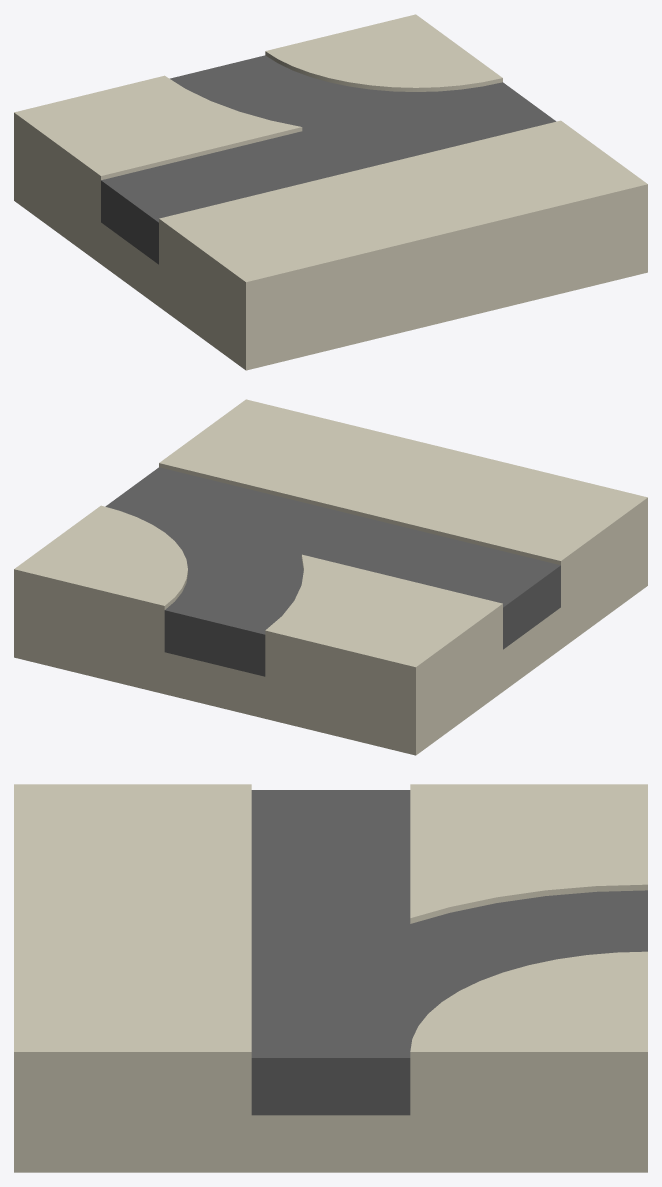
File: tile022.dae
3 views of the same model, one above another, from view 1: azimuth 30°, elevation 25°; view 2: azimuth 150°, elevation 25°; view 3: azimuth 270°, elevation 25° (orthographic). The views are drawn at different scales.
Visible parts, largest first — view 1: tile022; view 2: tile022; view 3: tile022.
Part boxes in pixels (bbox=[...]): tile022: bbox=[14, 14, 647, 370]; tile022: bbox=[14, 399, 647, 755]; tile022: bbox=[14, 784, 647, 1172].
Size of the model in its own units: 1 by 0.21 by 1.
